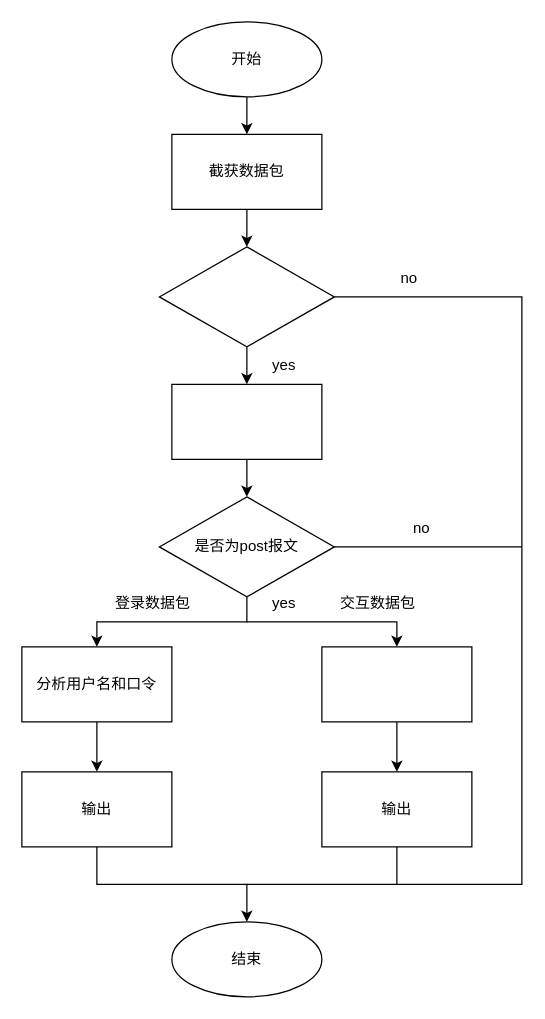
This 545x1019 diagram has some shape labels left out. The shapes that lost their labels are listed below. From the top down, each one's centre as x and y in pixels, then its label:
point (246, 296): 是否为80端口
point (246, 421): 输出时间
point (396, 684): 提取所需信息
